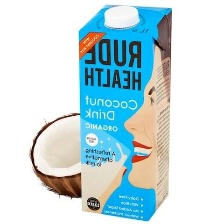carton: (77, 2, 173, 221)
